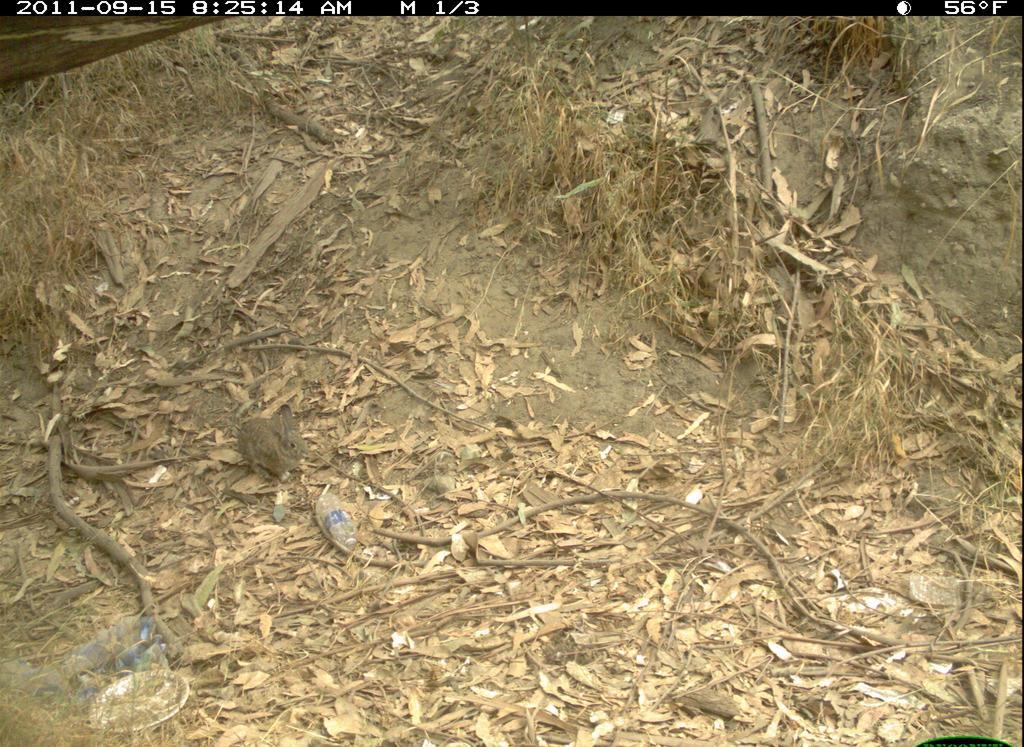rabbit: (221, 391, 323, 497)
